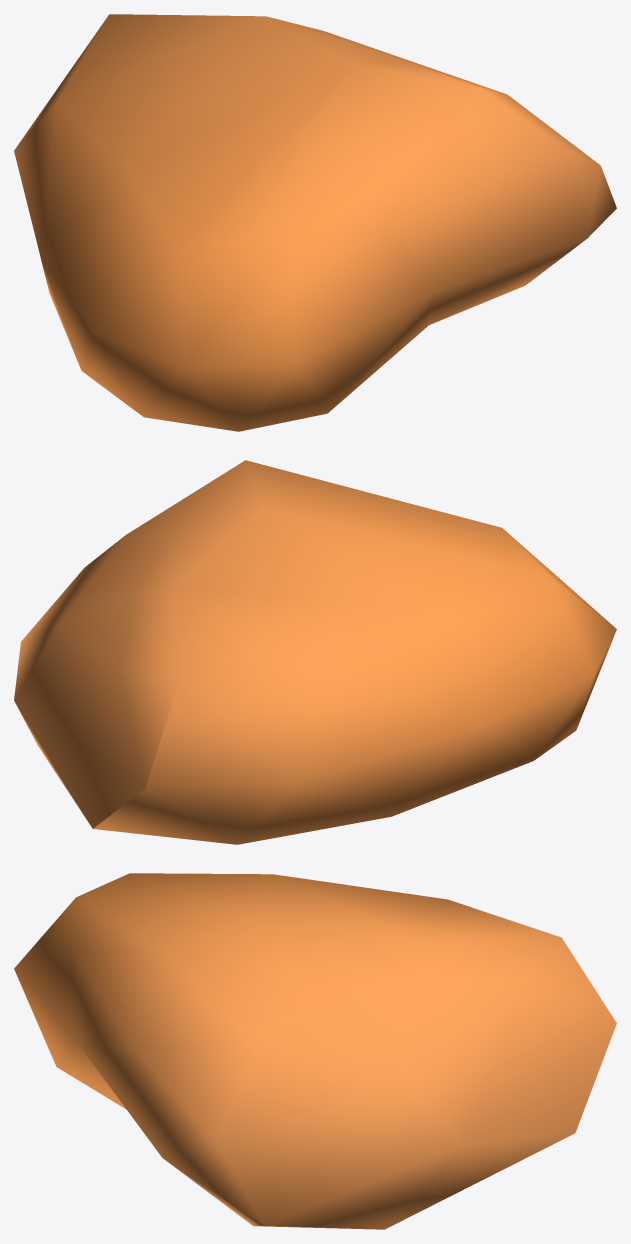
Rendered from Small_Rock_4_001.fbx.
3 views of the same model, one above another, from view 1: azimuth 30°, elevation 25°; view 2: azimuth 150°, elevation 25°; view 3: azimuth 270°, elevation 25° (orthographic). The views are drawn at different scales.
Parts seen in each view (by area): view 1: Small Rock 4.001; view 2: Small Rock 4.001; view 3: Small Rock 4.001.
Part boxes in pixels (x1,y1,x2,y2): Small Rock 4.001: (14,14,616,431); Small Rock 4.001: (14,460,616,844); Small Rock 4.001: (14,873,616,1229).
Size of the model in its own units: 181 by 77.13 by 181.
